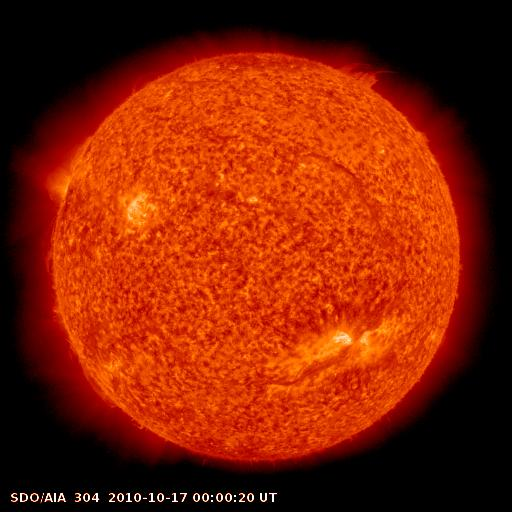prominence: (54, 333, 118, 413), (325, 46, 397, 96), (120, 67, 169, 96), (41, 222, 65, 279)
